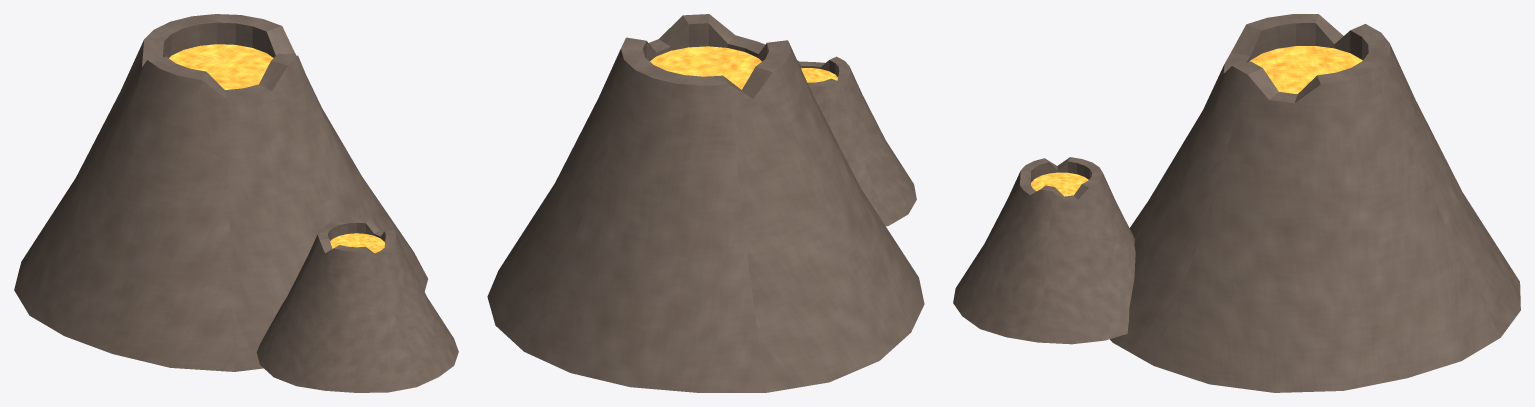
File: vulcano 1.fbx
The picture shows the model from 3 angles, left to right: view 1: azimuth 30°, elevation 25°; view 2: azimuth 150°, elevation 25°; view 3: azimuth 270°, elevation 25°; orthographic projection. The views are drawn at different scales.
Visible parts, largest first — view 1: pCone12; view 2: pCone12; view 3: pCone12.
Boxes of the visible parts, left/top/right/bottom form: pCone12: left=14, top=14, right=458, bottom=392; pCone12: left=487, top=14, right=924, bottom=392; pCone12: left=953, top=14, right=1520, bottom=392.
Size of the model in its own units: 7.81 by 4.99 by 10.2.
